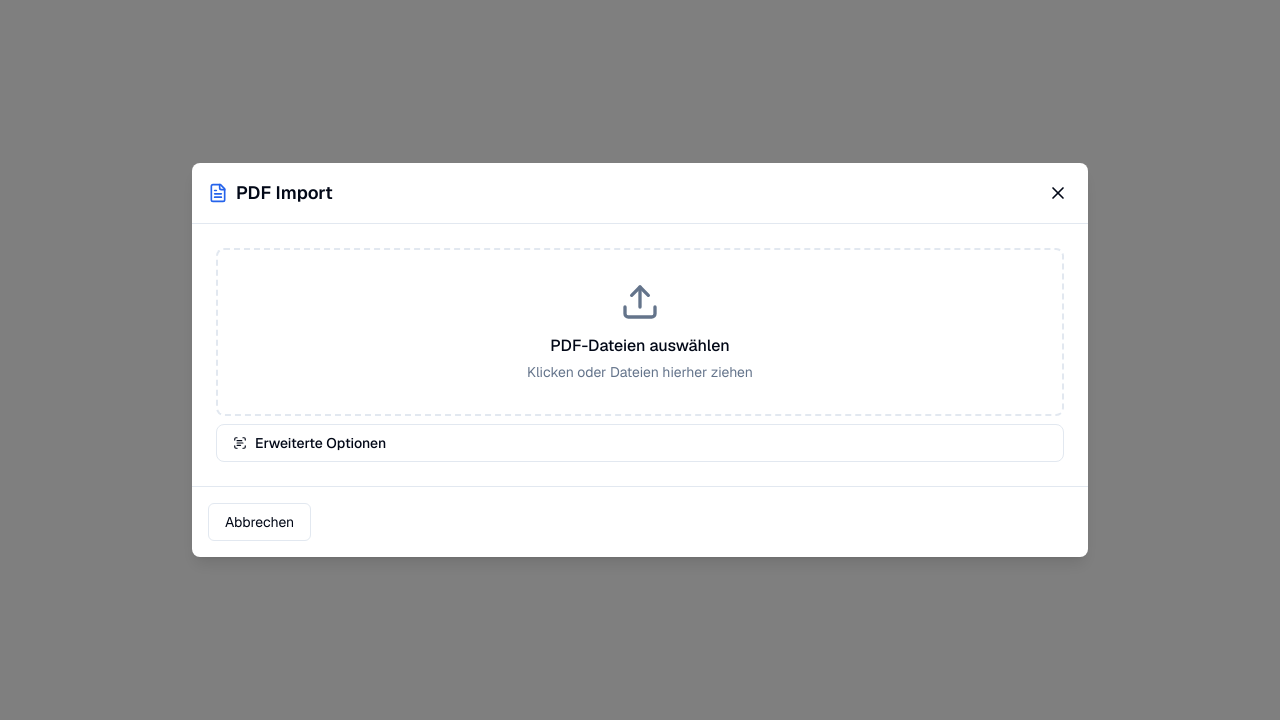
Scenario: PdfImportModal › Preview Step › should show preview after successful file selection
Expected: the text "PDF-Dateien auswählen" is shown, [550,335,730,356]
Click the text "PDF-Dateien auswählen".
click(640, 332)  # box [216,248,1064,416]
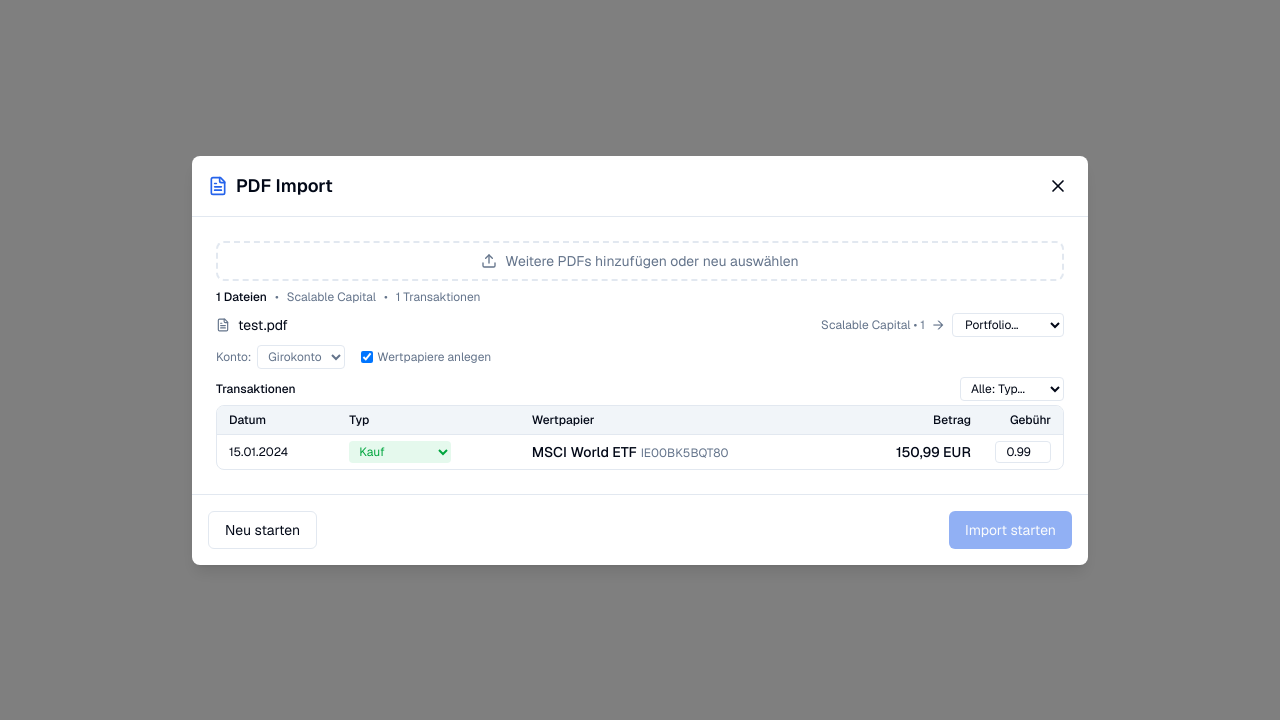
Expected: the text "Scalable Capital" is shown, [287,288,376,304]
Expected: the text "Transaktionen" is shown, [216,380,296,396]
